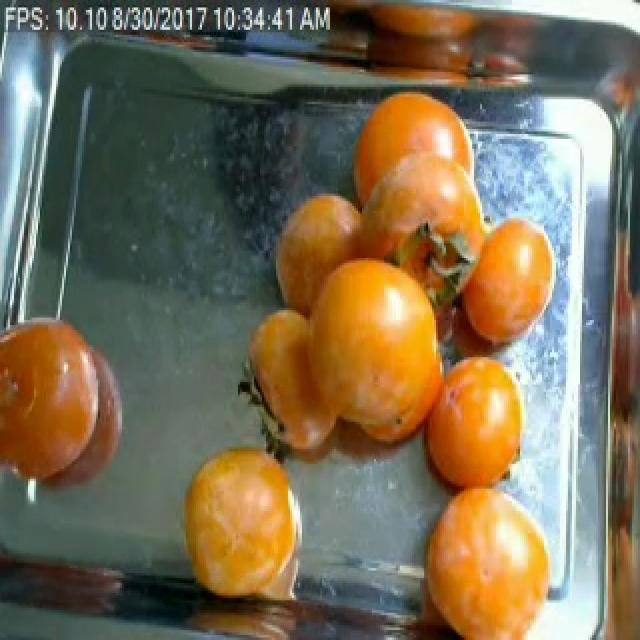Fruit: (254, 173, 410, 370), (0, 302, 146, 508), (402, 469, 566, 640), (164, 427, 302, 628), (336, 79, 476, 258), (436, 198, 574, 374), (404, 340, 540, 511), (0, 534, 140, 632)
